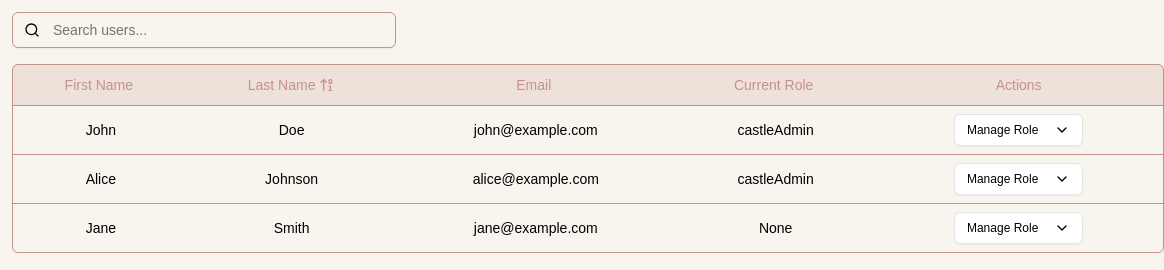
Test: UsersTable › filters users based on search input
Step 1. Type "Jane" into the field with placeholder "Search users..." → (204, 30), box [12,12,396,48]
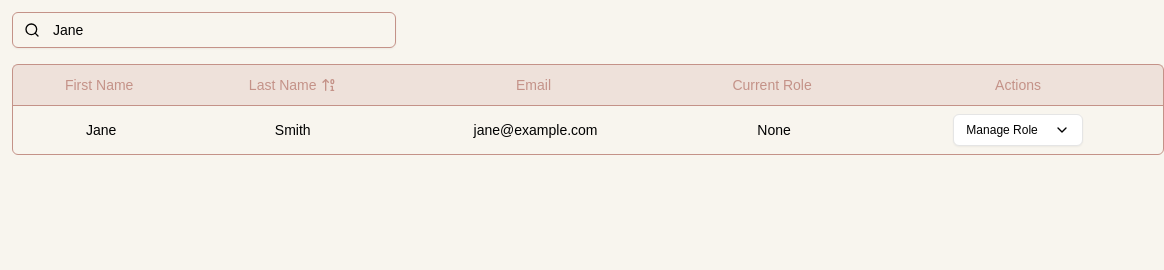
expect the text "Jane" is shown: met, box [13,105,189,154]
expect the text "John" is gone: met
expect the text "Alice" is gone: met
# Clear search
Step 2. Clear the field with placeholder "Search users..." → (204, 30), box [12,12,396,48]
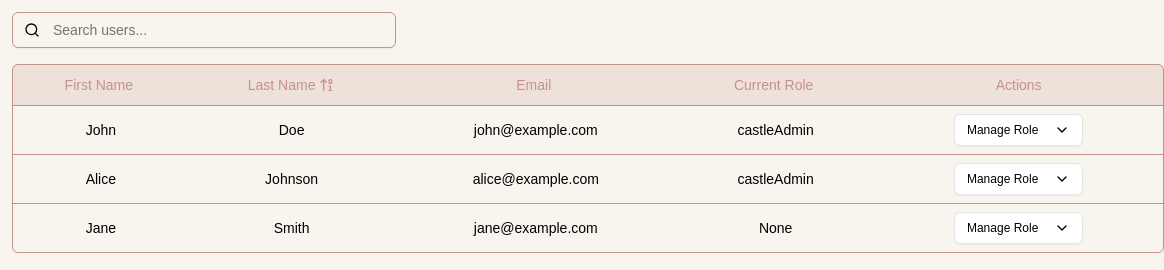
expect the text "Jane" is shown: met, box [13,203,189,252]
expect the text "John" is shown: met, box [13,105,189,154]
expect the text "Alice" is shown: met, box [13,154,189,203]
# Search by email
Step 3. Type "alice@example" into the field with placeholder "Search users..." → (204, 30), box [12,12,396,48]
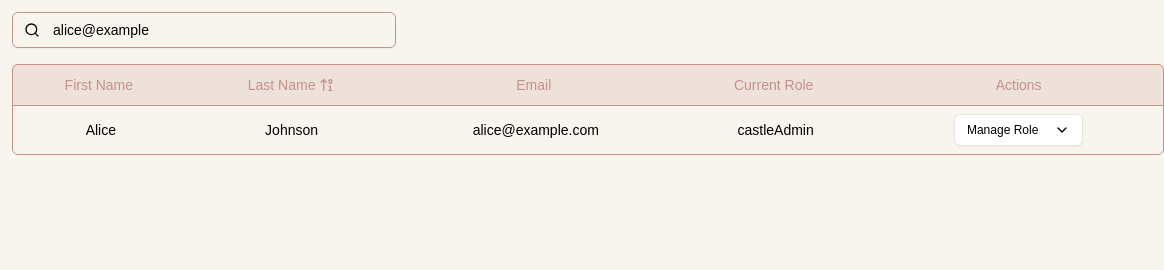
expect the text "Alice" is shown: met, box [13,105,189,154]
expect the text "Jane" is gone: met
